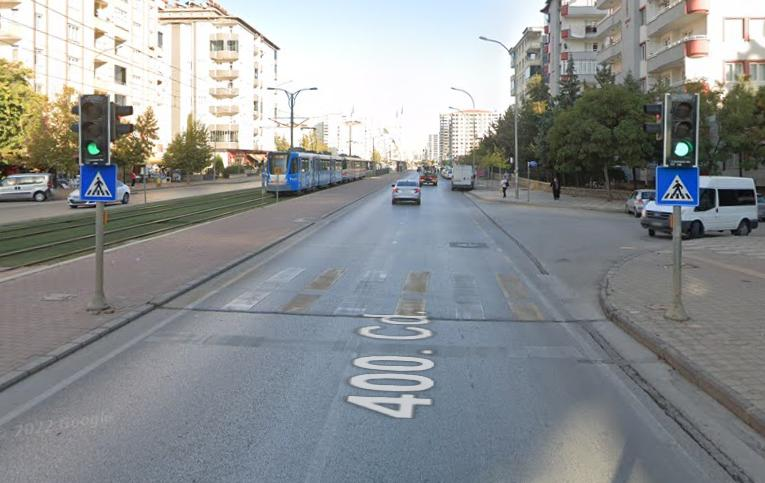greenlight: (667, 93, 696, 160), (81, 97, 106, 160)
